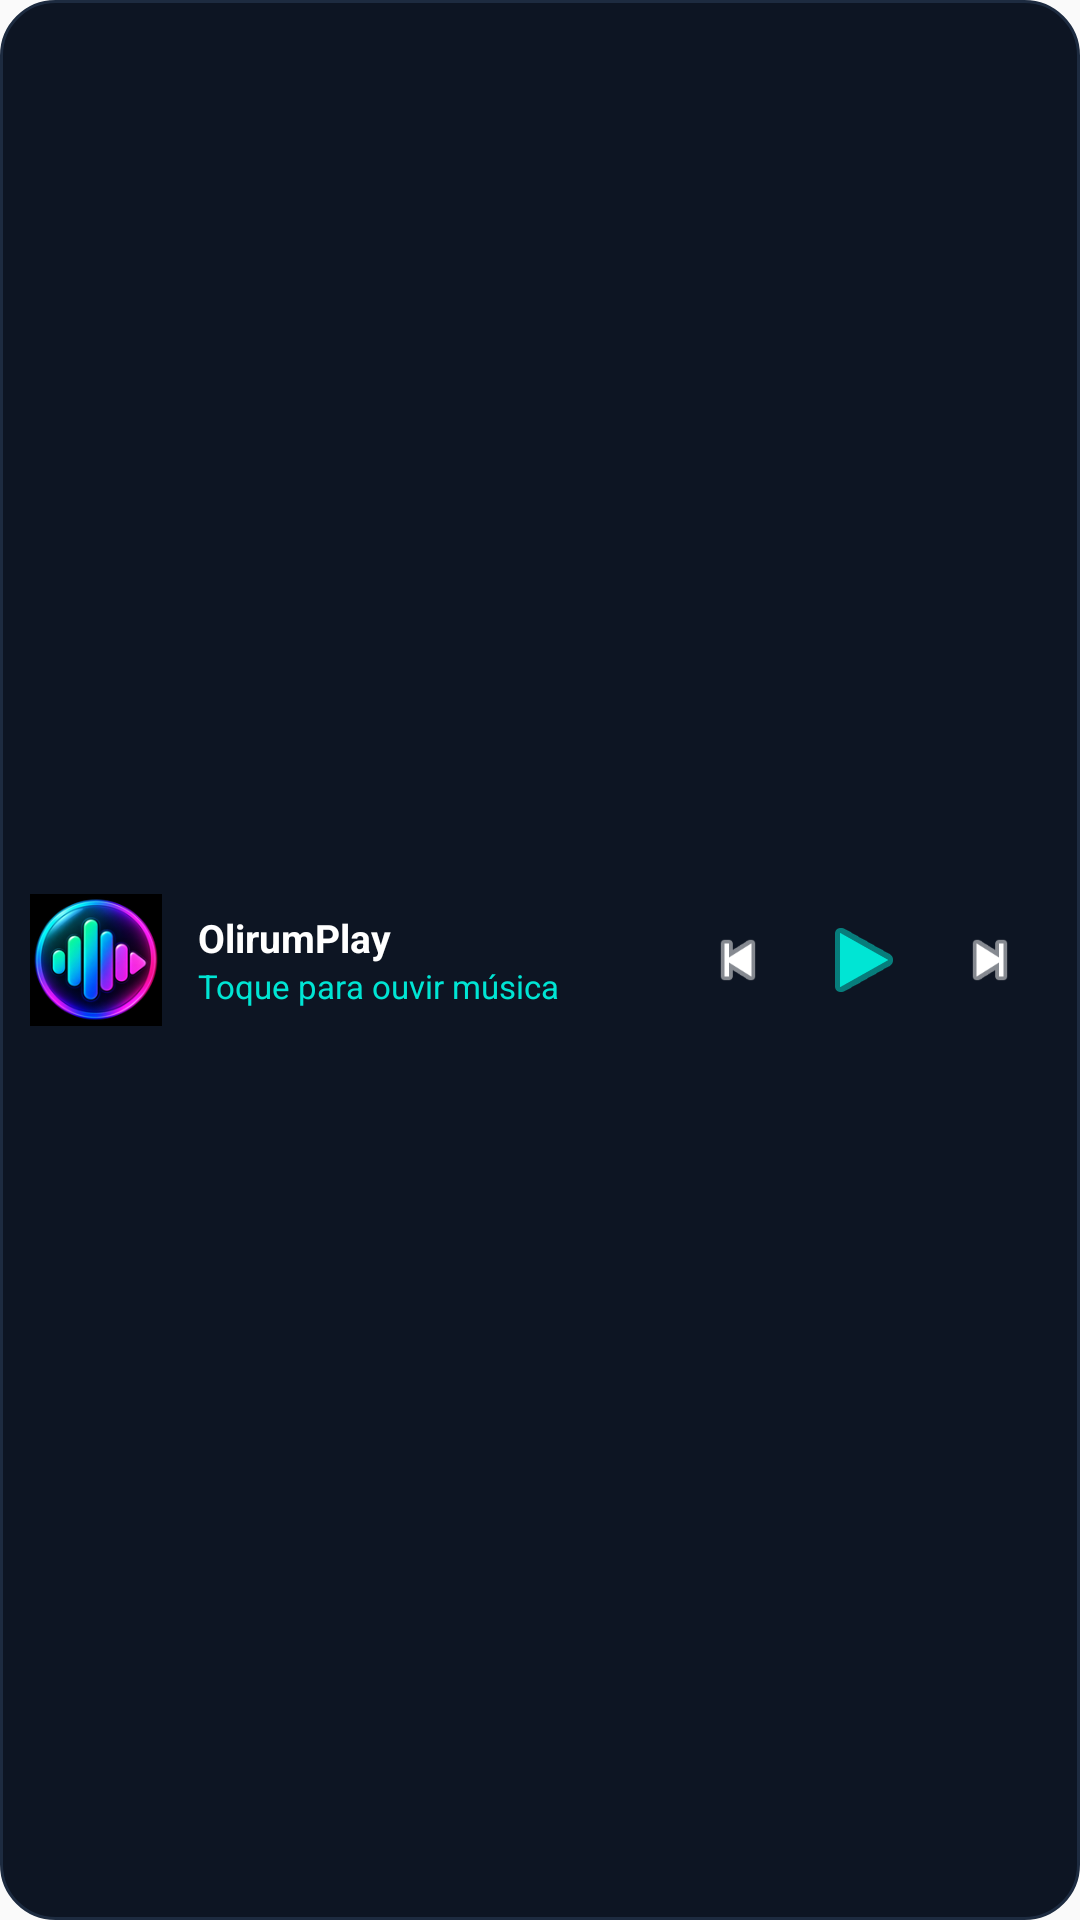

Where to tap for icons on this 1080 x 1920 app screen, as (x=x, y=y):
Anterior: (x=738, y=960)
Próxima: (x=990, y=960)
Tocar: (x=864, y=960)
